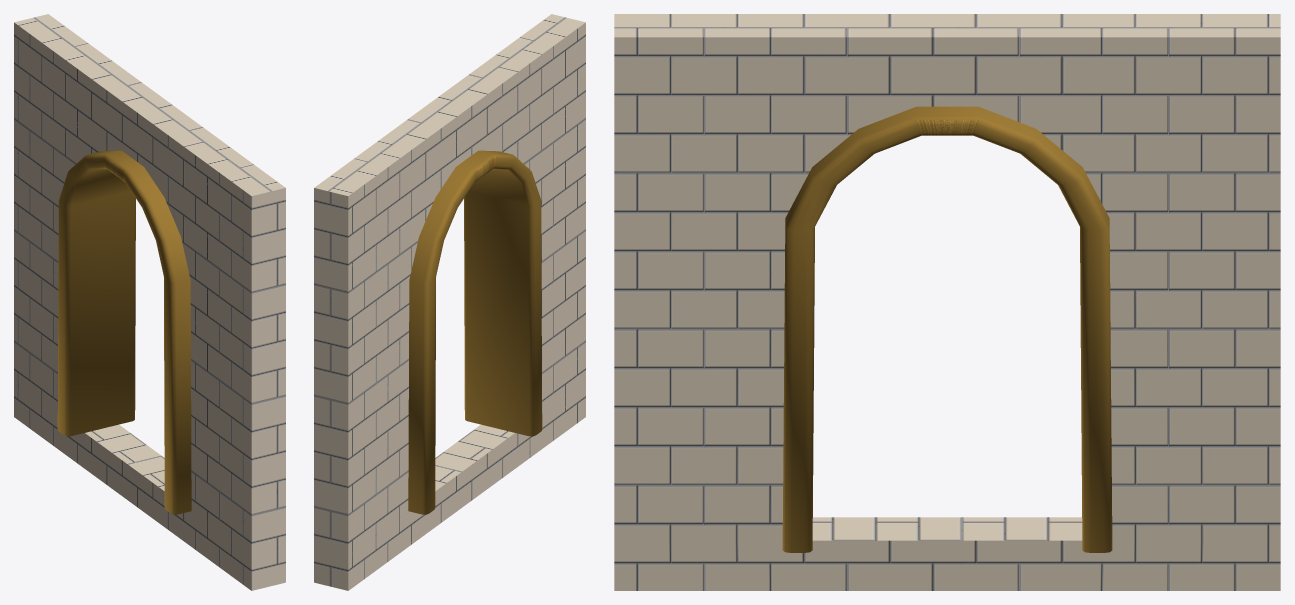
File: Wall_DW_S.fbx
3 views of the same model, side by side, from view 1: azimuth 30°, elevation 25°; view 2: azimuth 150°, elevation 25°; view 3: azimuth 270°, elevation 25° (orthographic). The views are drawn at different scales.
Visible parts, largest first — view 1: Wall_DW_S; view 2: Wall_DW_S; view 3: Wall_DW_S.
Part boxes in pixels (x1,y1,x2,y2): Wall_DW_S: [14, 14, 285, 590]; Wall_DW_S: [314, 14, 585, 590]; Wall_DW_S: [614, 14, 1280, 590].
Bounding box in the file's own units: 206 × 1100 × 1200.
